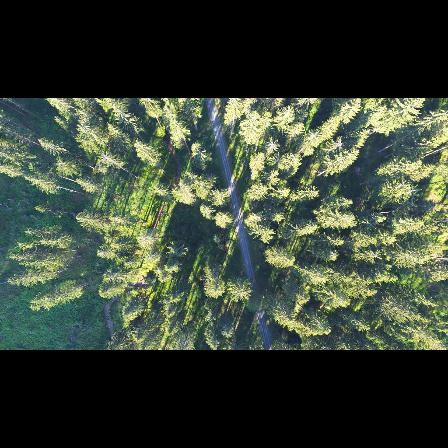Sick: (305, 126, 325, 142), (266, 134, 280, 153)
